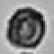correct: (2, 1, 48, 50)
